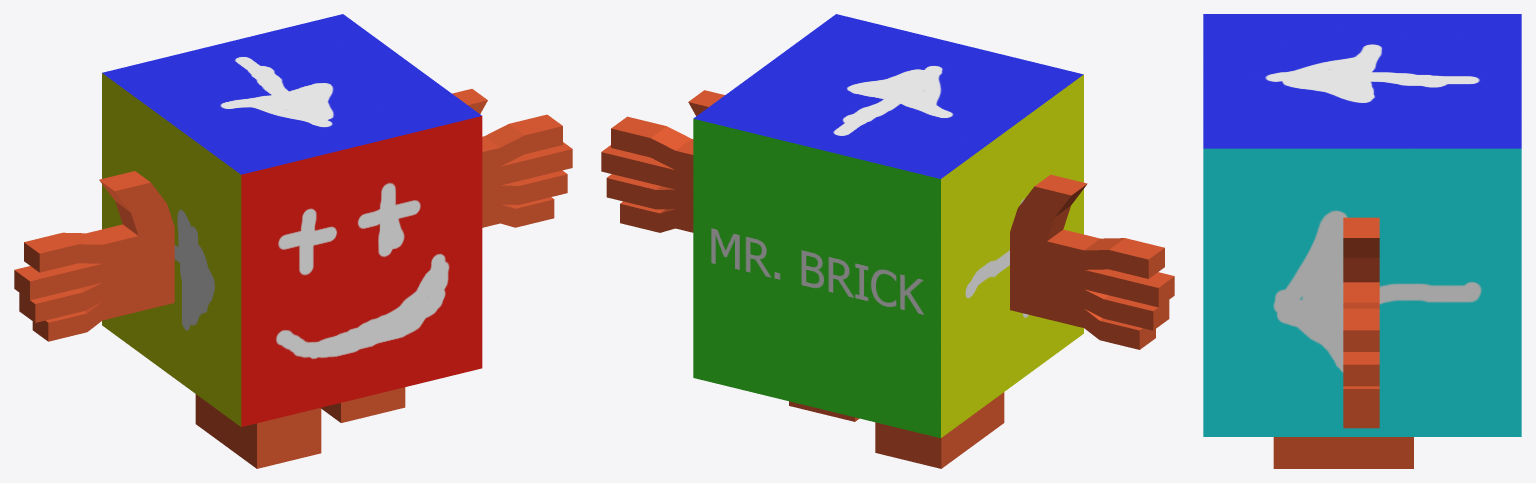
File: hero.FBX
3 views of the same model, side by side, from view 1: azimuth 30°, elevation 25°; view 2: azimuth 150°, elevation 25°; view 3: azimuth 270°, elevation 25° (orthographic). The views are drawn at different scales.
Visible parts, largest first — view 1: Box01, Box02, Box03, Box04, Box05; view 2: Box01, Box02, Box03, Box04; view 3: Box01, Box03, Box05.
Part boxes in pixels (x1,y1,x2,y2): Box01: (102, 14, 482, 426); Box02: (14, 171, 174, 341); Box03: (452, 89, 572, 227); Box04: (195, 394, 321, 468); Box05: (321, 387, 405, 422); Box01: (693, 14, 1083, 438); Box02: (1010, 174, 1174, 349); Box03: (601, 90, 724, 232); Box04: (875, 392, 1004, 468); Box01: (1203, 14, 1521, 436); Box03: (1343, 217, 1379, 428); Box05: (1273, 437, 1413, 468).
Size of the model in its own units: 2.25 by 1 by 1.3.
